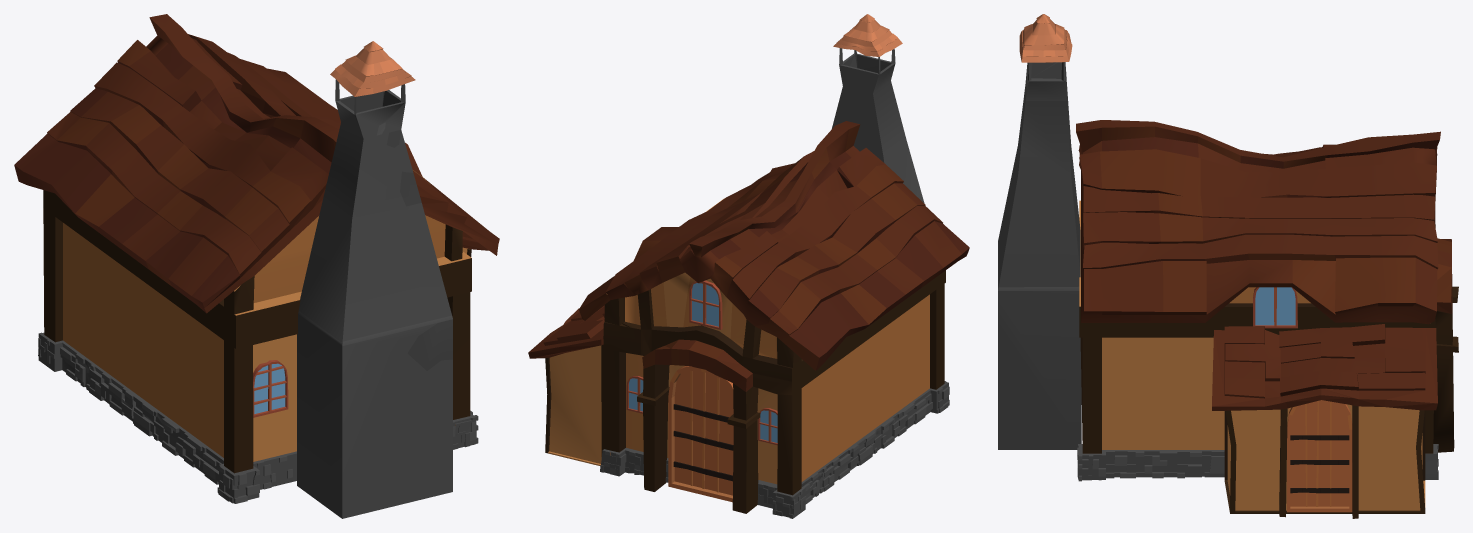
File: Weapon_Shop.FBX
The picture shows the model from 3 angles, left to right: view 1: azimuth 30°, elevation 25°; view 2: azimuth 150°, elevation 25°; view 3: azimuth 270°, elevation 25°; orthographic projection. The views are drawn at different scales.
Parts seen in each view (by area): view 1: Box032; view 2: Box032; view 3: Box032.
Boxes of the visible parts, <box> form: Box032: <box>14,14,499,518</box>; Box032: <box>528,14,969,518</box>; Box032: <box>998,14,1458,518</box>.
Size of the model in its own units: 545 by 653 by 644.
